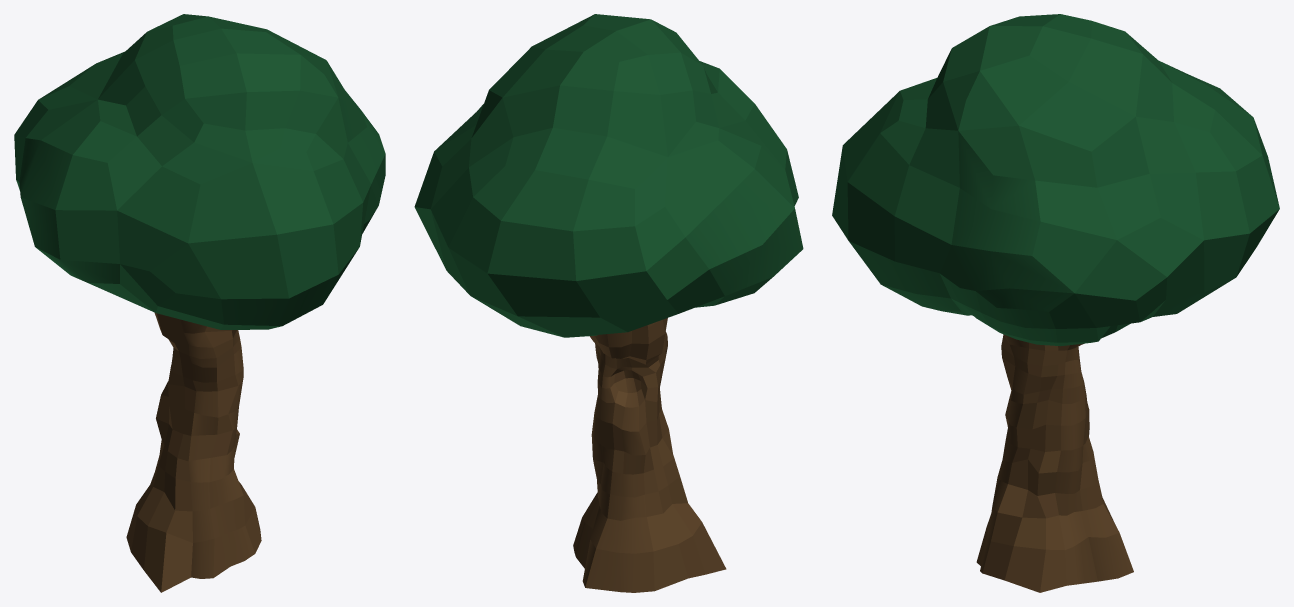
The model's file is arv1.fbx.
The picture shows the model from 3 angles, left to right: view 1: azimuth 30°, elevation 25°; view 2: azimuth 150°, elevation 25°; view 3: azimuth 270°, elevation 25°; orthographic projection. The views are drawn at different scales.
Parts seen in each view (by area): view 1: arvore1:arvore; view 2: arvore1:arvore; view 3: arvore1:arvore.
Boxes of the visible parts, <box> form: arvore1:arvore: <box>14,14,385,592</box>; arvore1:arvore: <box>414,14,803,592</box>; arvore1:arvore: <box>832,14,1279,592</box>.
Size of the model in its own units: 30.11 by 45.59 by 32.72.
